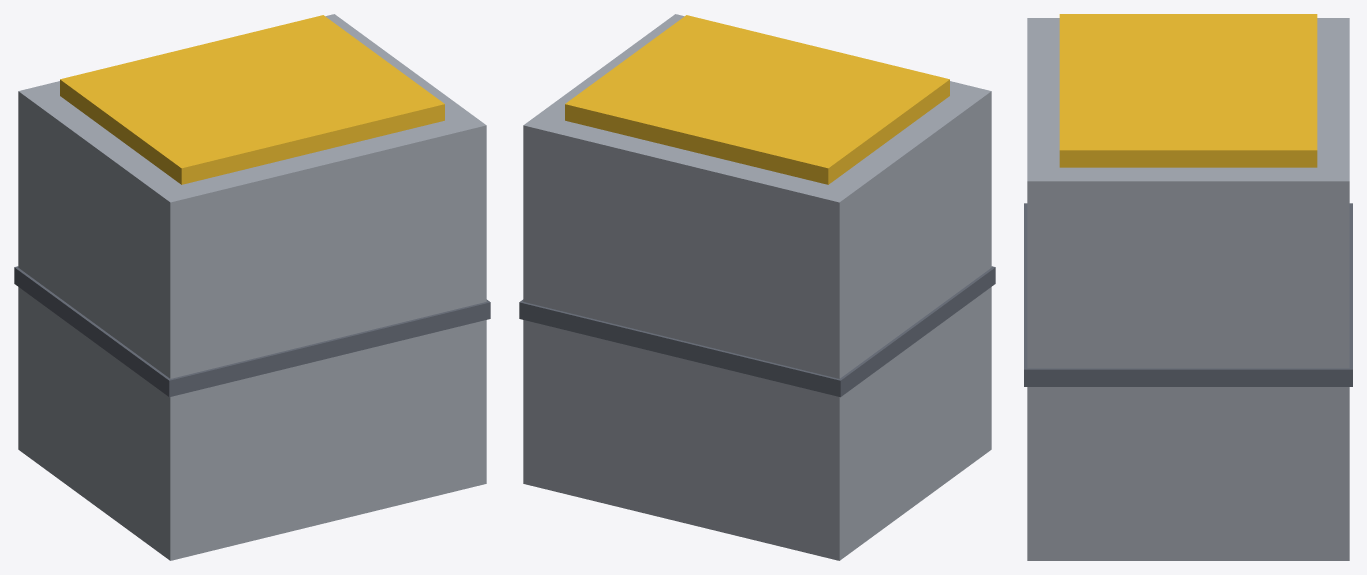
The model's file is fryer.glb.
3 renders of one model, left to right at view 1: azimuth 30°, elevation 25°; view 2: azimuth 150°, elevation 25°; view 3: azimuth 270°, elevation 25°, orthographic. The views are drawn at different scales.
Visible parts, largest first — view 1: fryer; view 2: fryer; view 3: fryer.
Boxes of the visible parts, x1,y1,x2,y2 form: fryer: [14, 14, 490, 560]; fryer: [519, 14, 995, 560]; fryer: [1024, 14, 1352, 560].
Size of the model in its own units: 0.61 by 0.68 by 0.51.
1 material, 1 textured.
